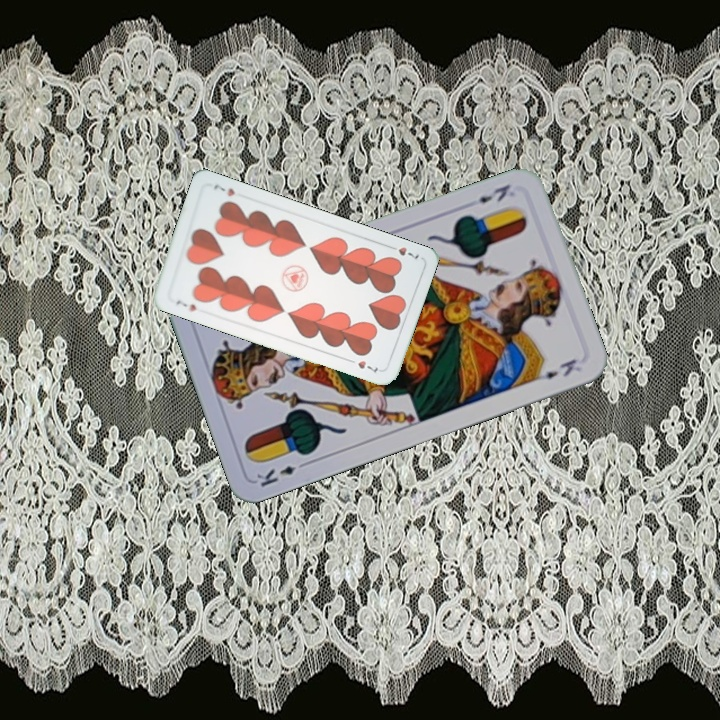EK: (252, 457, 311, 490), (474, 180, 513, 206)
H7: (384, 241, 422, 262), (172, 296, 199, 314)
